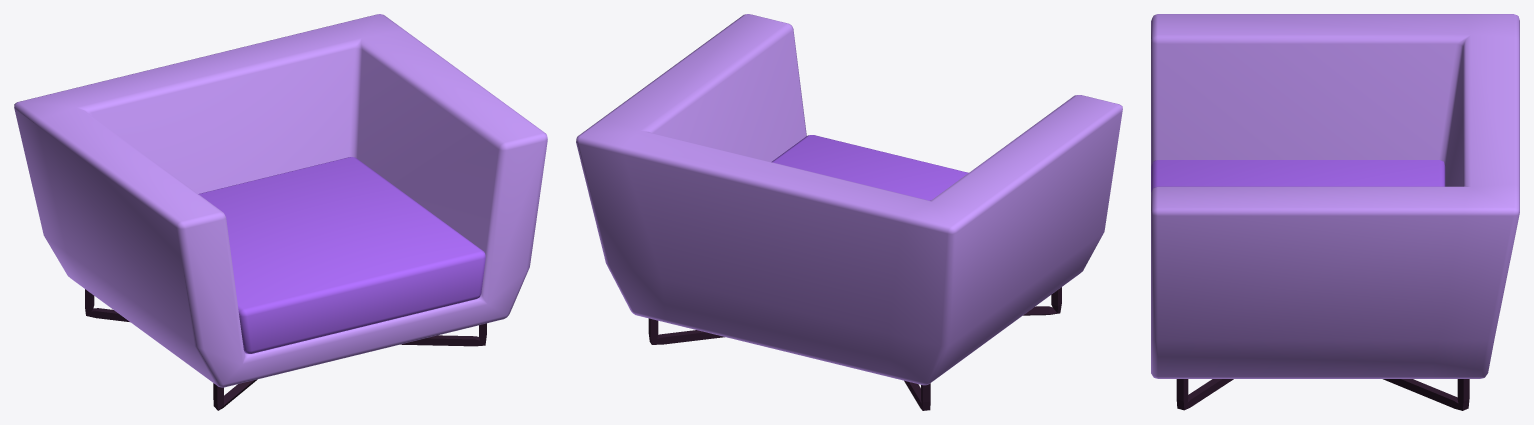
File: Prop_Sofa_05_B.fbx
3 renders of one model, left to right at view 1: azimuth 30°, elevation 25°; view 2: azimuth 150°, elevation 25°; view 3: azimuth 270°, elevation 25°, orthographic. The views are drawn at different scales.
Visible parts, largest first — view 1: Prop_Sofa_05_B; view 2: Prop_Sofa_05_B; view 3: Prop_Sofa_05_B.
Part boxes in pixels (x1=…): Prop_Sofa_05_B: x1=14, y1=14, x2=547, y2=410; Prop_Sofa_05_B: x1=576, y1=14, x2=1122, y2=410; Prop_Sofa_05_B: x1=1151, y1=14, x2=1519, y2=410.
Size of the model in its own units: 117 by 63.34 by 92.25.
